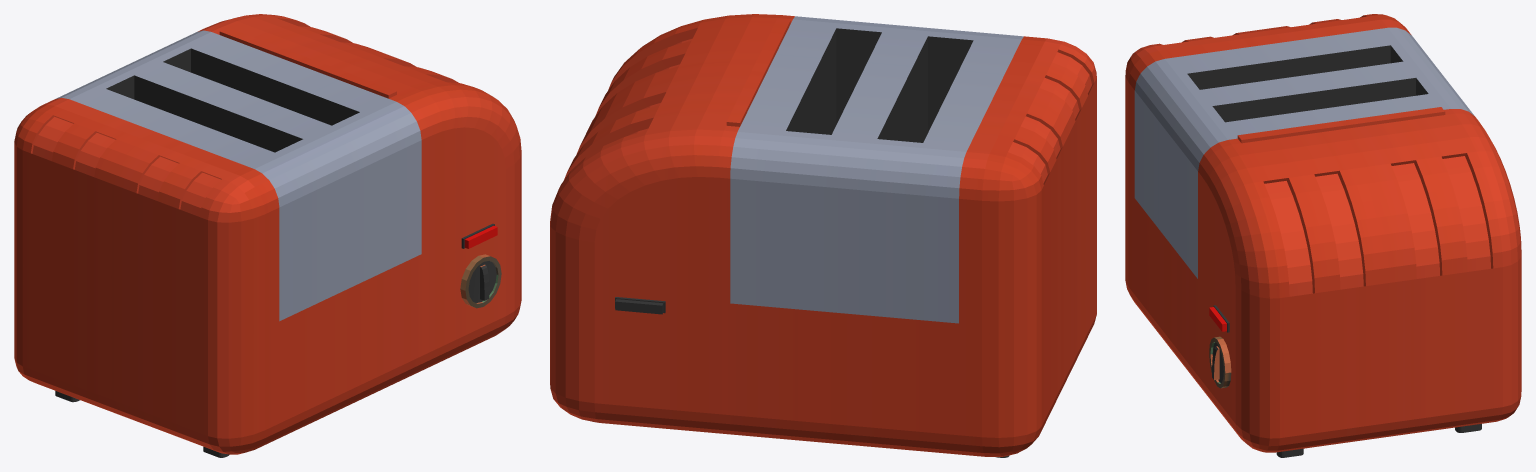
The model's file is Roaster con UV.fbx.
3 renders of one model, left to right at view 1: azimuth 30°, elevation 25°; view 2: azimuth 150°, elevation 25°; view 3: azimuth 270°, elevation 25°, orthographic. The views are drawn at different scales.
Visible parts, largest first — view 1: Toast; view 2: Toast; view 3: Toast.
Part boxes in pixels (x1,y1,x2,y2): Toast: (14,14,521,457); Toast: (550,14,1096,457); Toast: (1125,14,1521,457).
Bounding box in the file's own units: 148 × 90.02 × 120.
